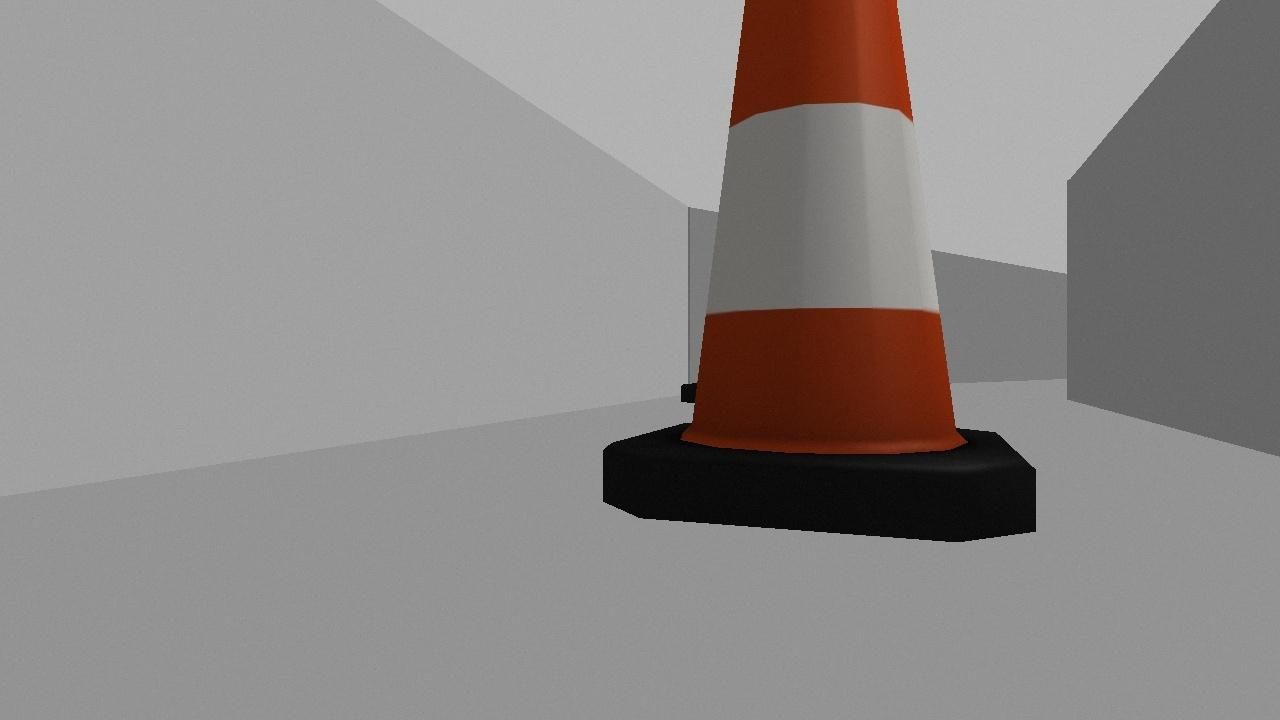cone_barrel: (597, 1, 1039, 544)
